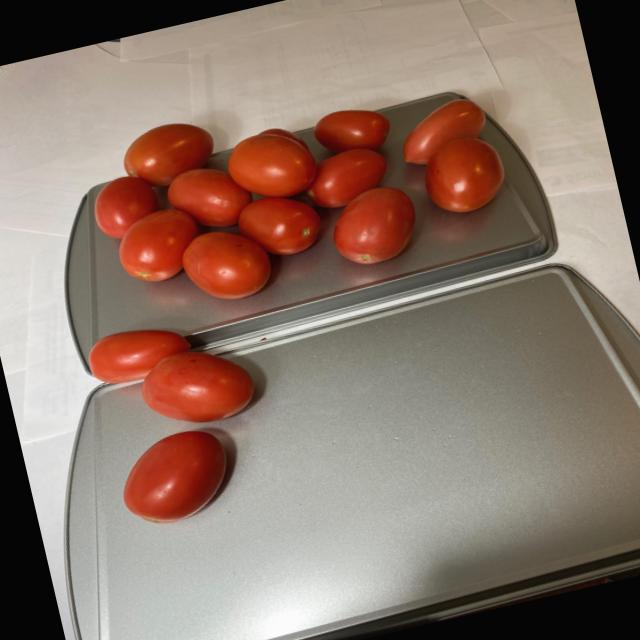tomato: (71, 49, 526, 330), (80, 306, 282, 542)
